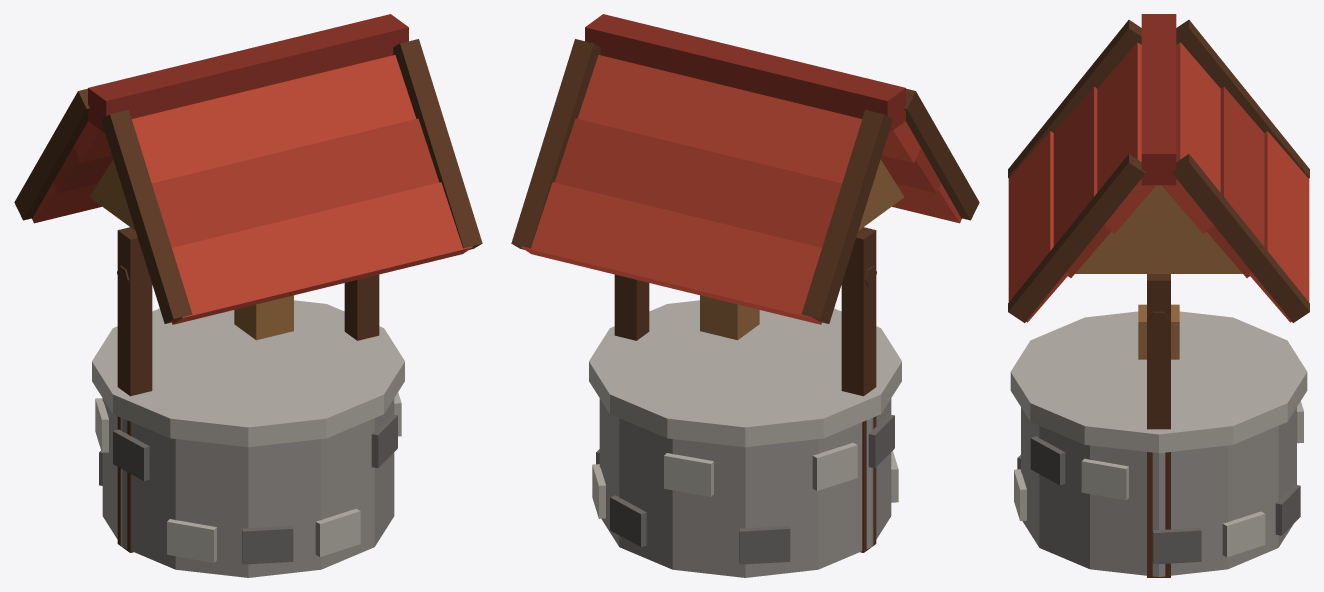
Rendered from well.glb.
3 renders of one model, left to right at view 1: azimuth 30°, elevation 25°; view 2: azimuth 150°, elevation 25°; view 3: azimuth 270°, elevation 25°, orthographic. The views are drawn at different scales.
Visible parts, largest first — view 1: roof_red, stone_light, ring, timber, roof_red_mid, ridge, stone_dark, plank; view 2: roof_red, stone_light, ring, timber, roof_red_mid, ridge, stone_dark, plank; view 3: stone_light, ring, roof_red, timber, roof_red_mid, plank, ridge, stone_dark.
Part boxes in pixels (x1,y1,x2,y2): roof_red: [32, 55, 472, 324]; stone_light: [92, 300, 404, 562]; ring: [102, 398, 394, 577]; timber: [14, 39, 482, 552]; roof_red_mid: [53, 118, 439, 247]; ridge: [88, 14, 408, 132]; stone_dark: [99, 414, 397, 564]; plank: [89, 159, 293, 340]; roof_red: [521, 55, 961, 324]; stone_light: [589, 300, 901, 518]; ring: [599, 398, 891, 577]; timber: [511, 39, 979, 552]; roof_red_mid: [554, 118, 941, 247]; ridge: [585, 14, 905, 132]; stone_dark: [596, 414, 894, 564]; plank: [700, 159, 904, 340]; stone_light: [1010, 311, 1307, 557]; ring: [1021, 407, 1296, 576]; roof_red: [1008, 42, 1309, 322]; timber: [1008, 20, 1309, 577]; roof_red_mid: [1053, 87, 1264, 277]; plank: [1075, 185, 1242, 359]; ridge: [1141, 14, 1176, 185]; stone_dark: [1017, 436, 1300, 564].
Size of the model in its own units: 0.98 by 1.4 by 0.8745.
